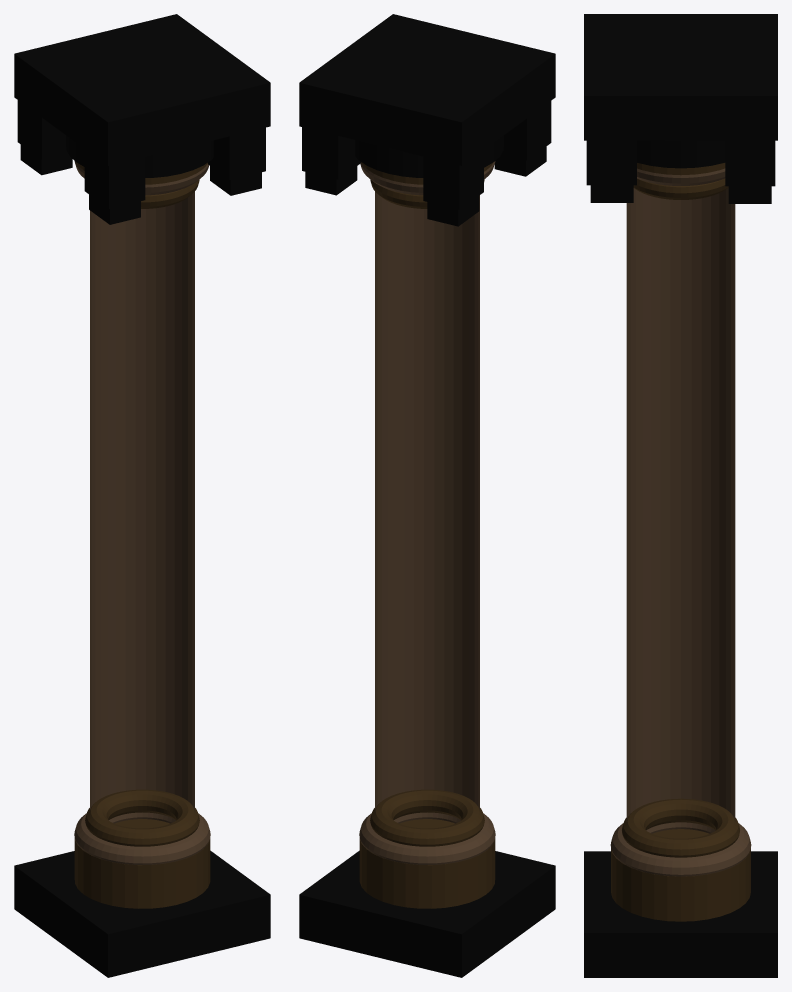
The model's file is pillar3.fbx.
3 views of the same model, side by side, from view 1: azimuth 30°, elevation 25°; view 2: azimuth 150°, elevation 25°; view 3: azimuth 270°, elevation 25° (orthographic). The views are drawn at different scales.
Parts seen in each view (by area): view 1: Cube.012, Cylinder.007; view 2: Cube.012, Cylinder.007; view 3: Cube.012, Cylinder.007.
Boxes of the visible parts, bbox=[...] form: Cube.012: bbox=[14, 14, 270, 977]; Cylinder.007: bbox=[66, 135, 213, 177]; Cube.012: bbox=[299, 14, 555, 977]; Cylinder.007: bbox=[355, 135, 503, 177]; Cube.012: bbox=[584, 14, 777, 977]; Cylinder.007: bbox=[637, 140, 725, 168].
Size of the model in its own units: 282 by 1416 by 282.
